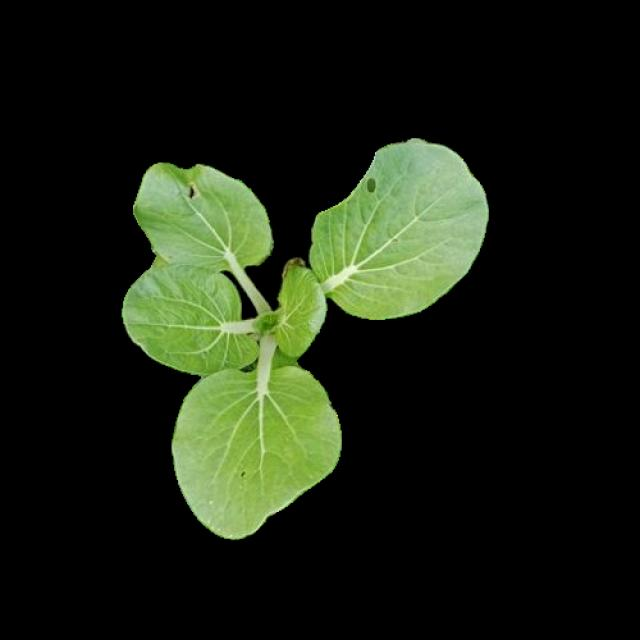not-mature: (124, 138, 490, 543)
unhealthy: (310, 142, 489, 316), (177, 363, 339, 539), (134, 166, 270, 272)
